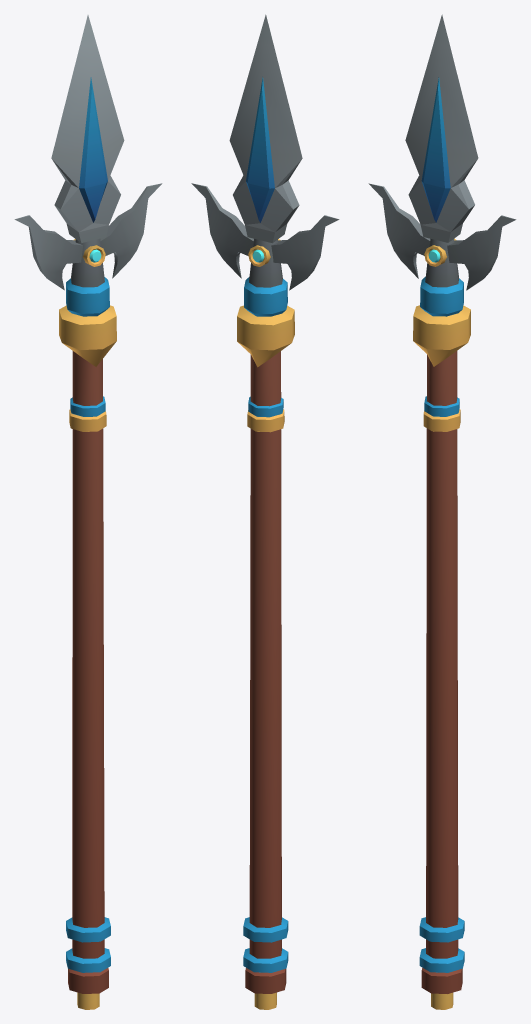
The model's file is Spear_B_Lv10.fbx.
3 renders of one model, left to right at view 1: azimuth 30°, elevation 25°; view 2: azimuth 150°, elevation 25°; view 3: azimuth 330°, elevation 25°, orthographic.
Parts seen in each view (by area): view 1: Spear_B_Lv10; view 2: Spear_B_Lv10; view 3: Spear_B_Lv10.
Part boxes in pixels (left/top/right/bottom): Spear_B_Lv10: left=14, top=15, right=162, bottom=1009; Spear_B_Lv10: left=191, top=14, right=339, bottom=1009; Spear_B_Lv10: left=368, top=14, right=516, bottom=1009.
Bounding box in the file's own units: 48.05 × 306 × 16.84.
